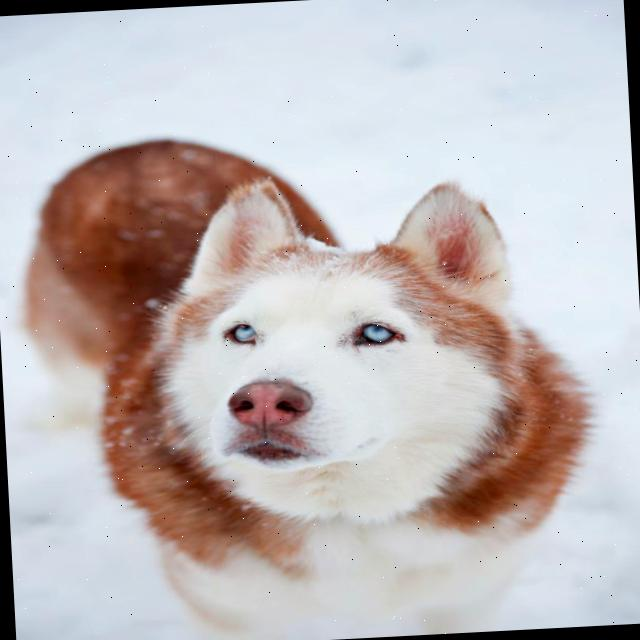siberian_husky_dog: (126, 159, 552, 510)
